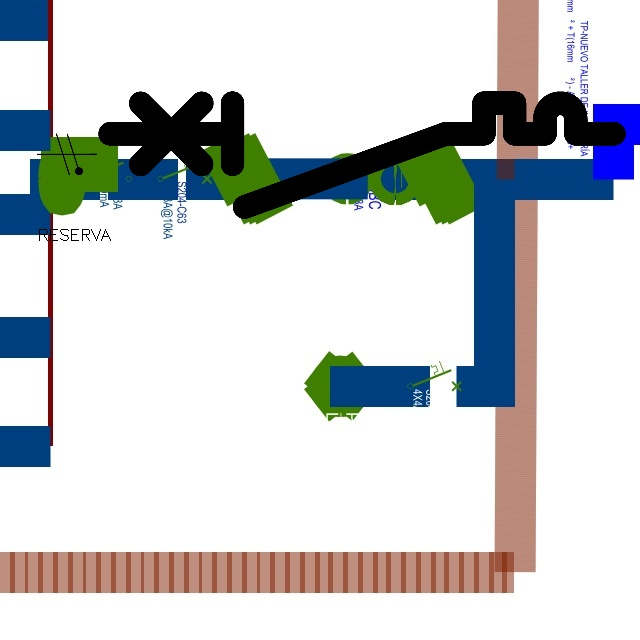interruptor_termomagnetico: (96, 90, 626, 220)
